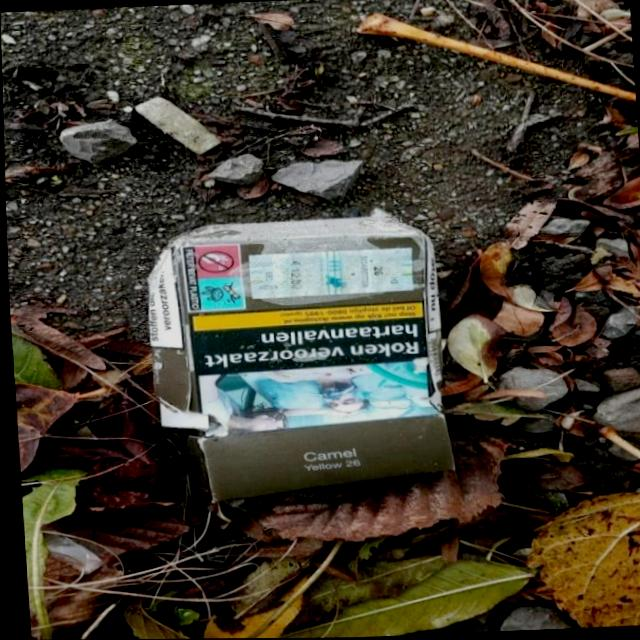Paper: (132, 202, 463, 509)
